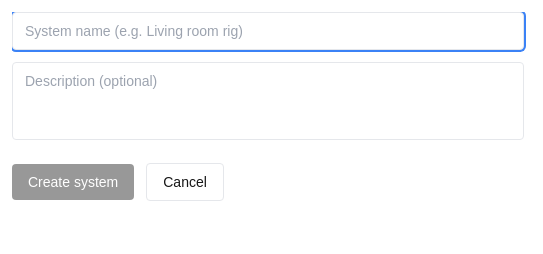
Test: CreateSystemForm › Submission › shows a fallback error message when the API response has no error field
Type "My rig" into the field with placeholder "System name (e.g. Living room rig)" at [268, 31], box [12, 12, 524, 50]
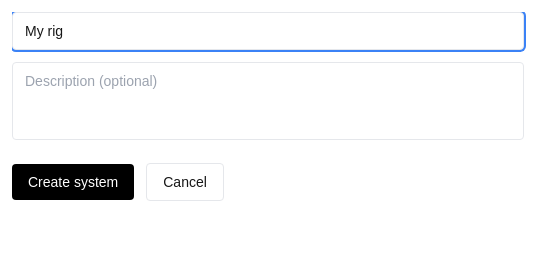
Click the button "Create system" at [73, 182], box [12, 164, 134, 200]
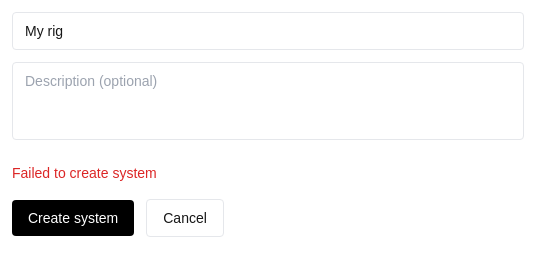
Result: the text "Failed to create system" is shown at [12, 165, 157, 181]
